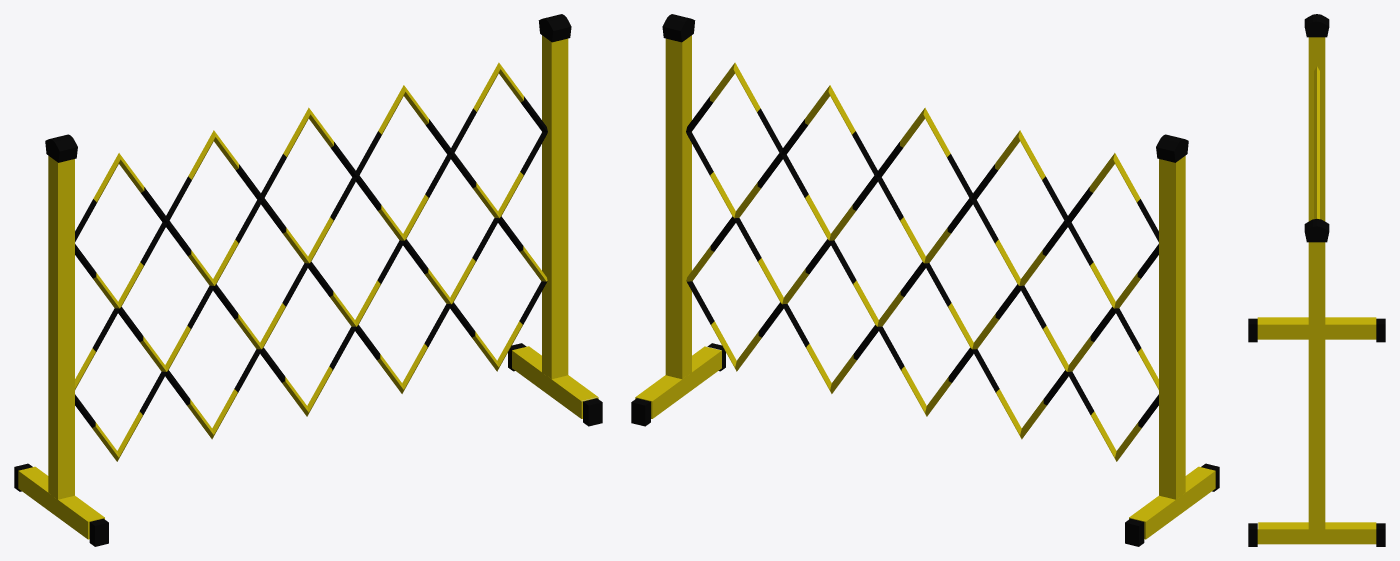
Rendered from barierson.fbx.
3 views of the same model, side by side, from view 1: azimuth 30°, elevation 25°; view 2: azimuth 150°, elevation 25°; view 3: azimuth 270°, elevation 25° (orthographic). The views are drawn at different scales.
Parts seen in each view (by area): view 1: Cube.001; view 2: Cube.001; view 3: Cube.001.
Boxes of the visible parts, x1=… form: Cube.001: x1=14, y1=14, x2=602, y2=546; Cube.001: x1=631, y1=14, x2=1219, y2=546; Cube.001: x1=1248, y1=14, x2=1385, y2=546.
Size of the model in its own units: 494 by 348 by 135.
